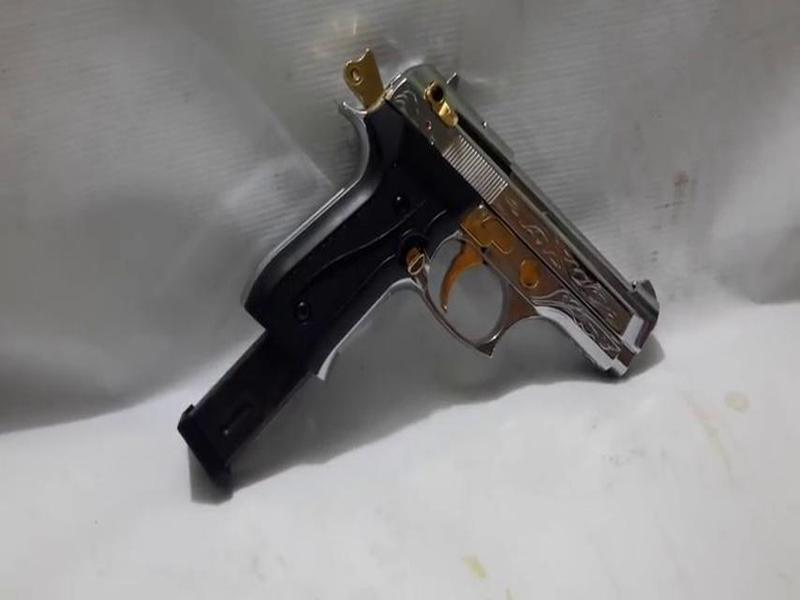Pistola: (248, 45, 671, 390)
